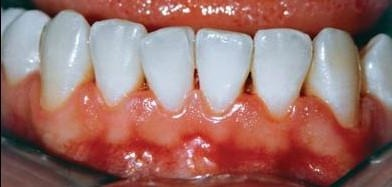Gingivitis: (69, 123, 340, 176)
